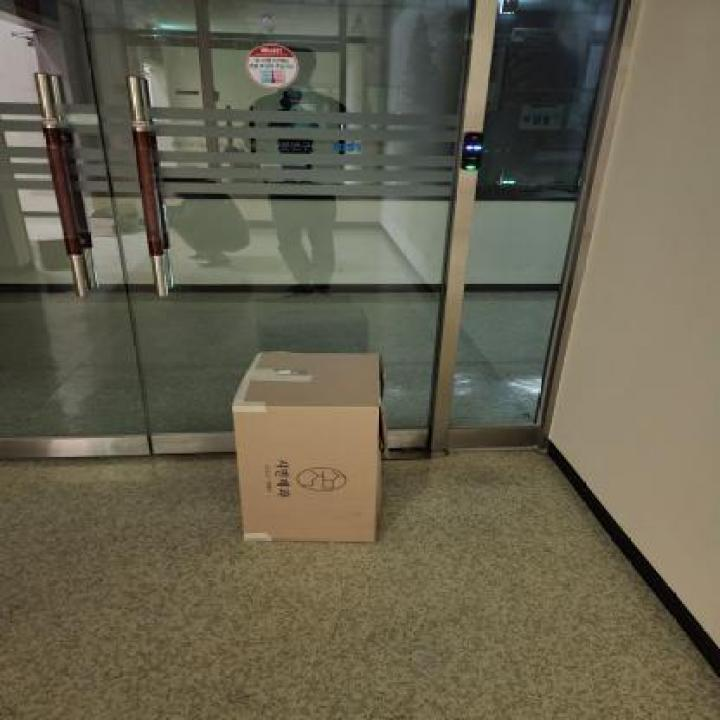package: (233, 350, 390, 549)
